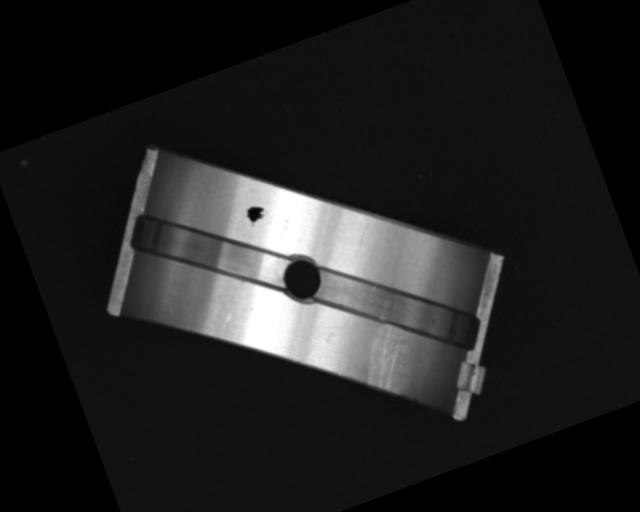blot: (243, 200, 273, 230)
gap: (306, 224, 482, 390), (123, 174, 292, 326)
hole: (276, 252, 326, 306)
nick: (208, 278, 256, 329), (345, 222, 377, 259)
scratch: (351, 318, 423, 401)
